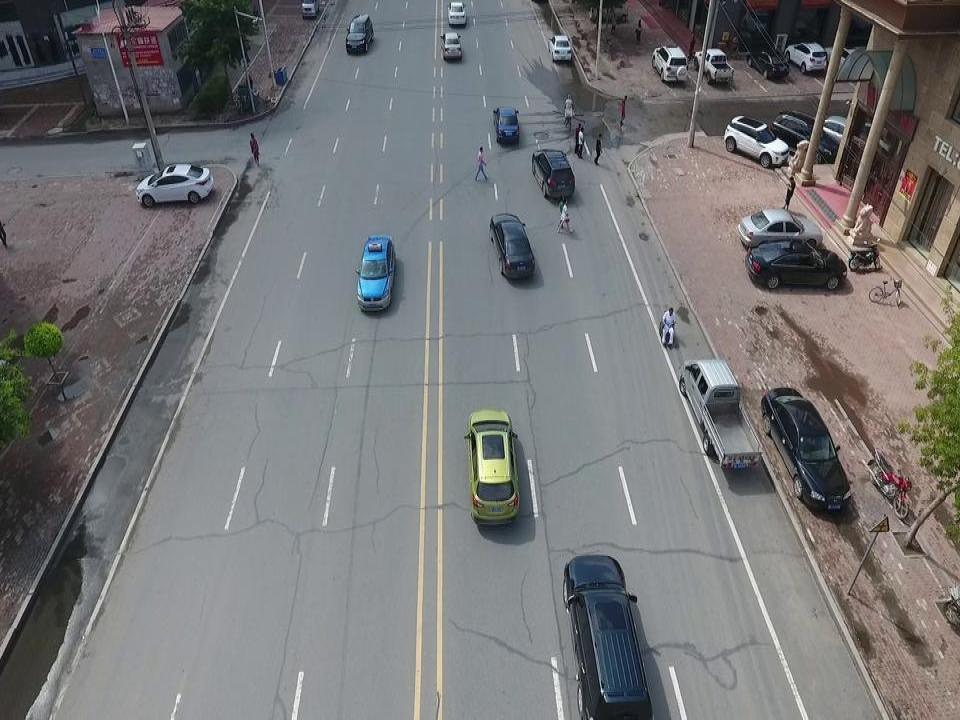car: (559, 549, 655, 720), (759, 386, 852, 514), (464, 408, 520, 528), (744, 236, 848, 292), (770, 108, 843, 165), (737, 206, 824, 250), (723, 114, 789, 170), (135, 163, 214, 208), (355, 231, 397, 313), (487, 213, 536, 280), (812, 112, 869, 155), (531, 147, 575, 200), (824, 44, 868, 83), (783, 40, 828, 76), (651, 44, 689, 84), (746, 48, 791, 80), (344, 13, 375, 56), (492, 104, 521, 145), (547, 33, 573, 64), (440, 31, 462, 60), (446, 1, 467, 27)
truck: (678, 354, 763, 470), (692, 47, 734, 85)
van: (587, 0, 629, 23), (299, 0, 320, 20)
